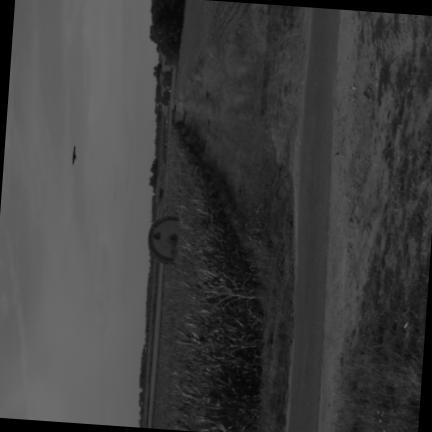Shahed: (72, 145, 75, 163)
